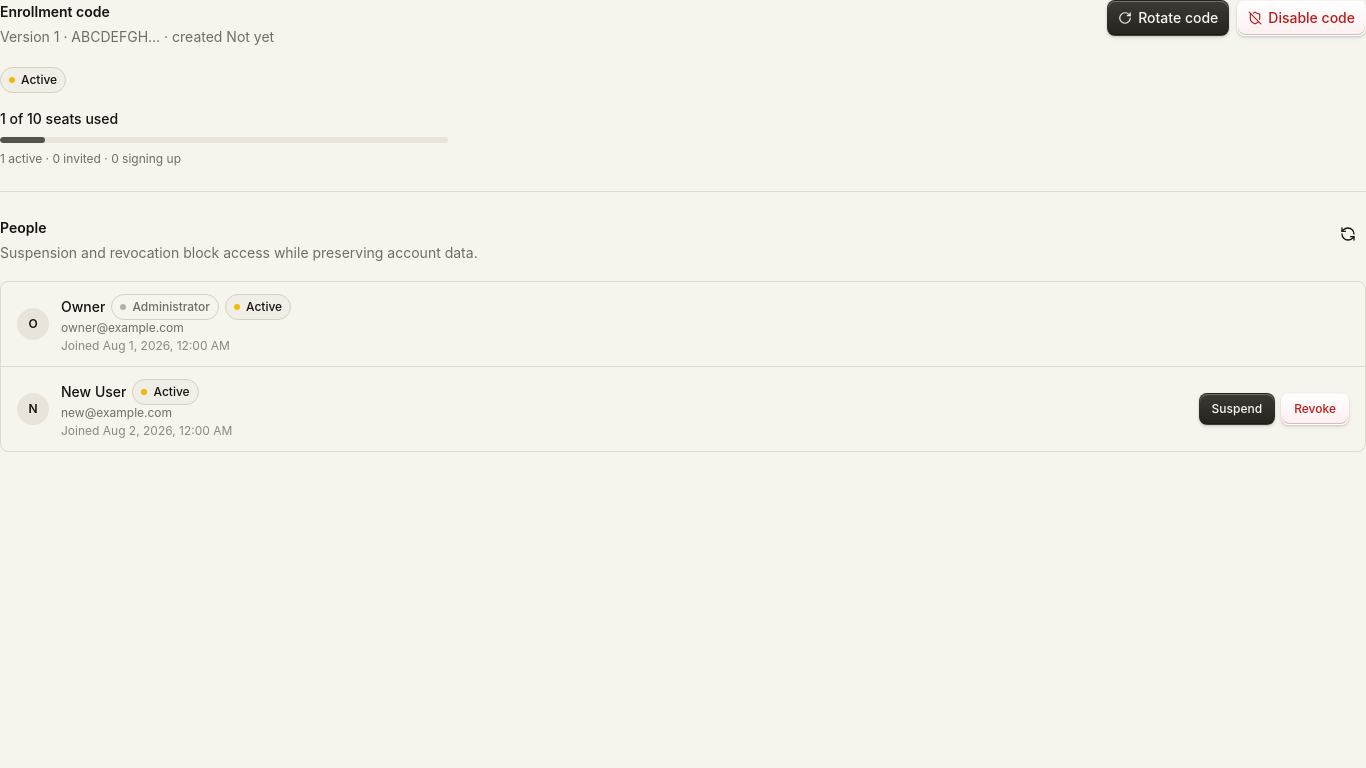
AdminPeopleAccessCard › reveals a validated replacement before surrounding refresh requests finish
Click the button "Rotate code": (1168, 18) [1107,0,1229,36]
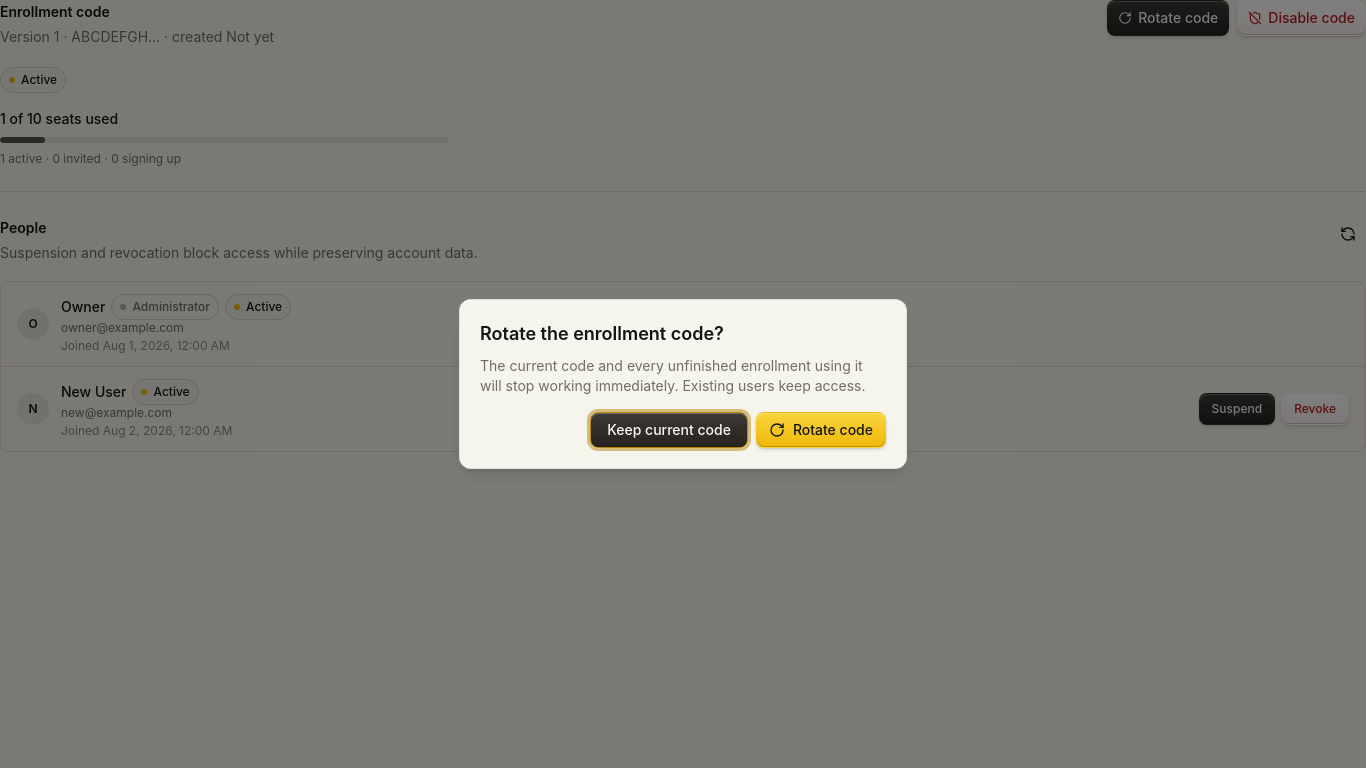
Click the button "Rotate code": (821, 430) [756,412,886,448]
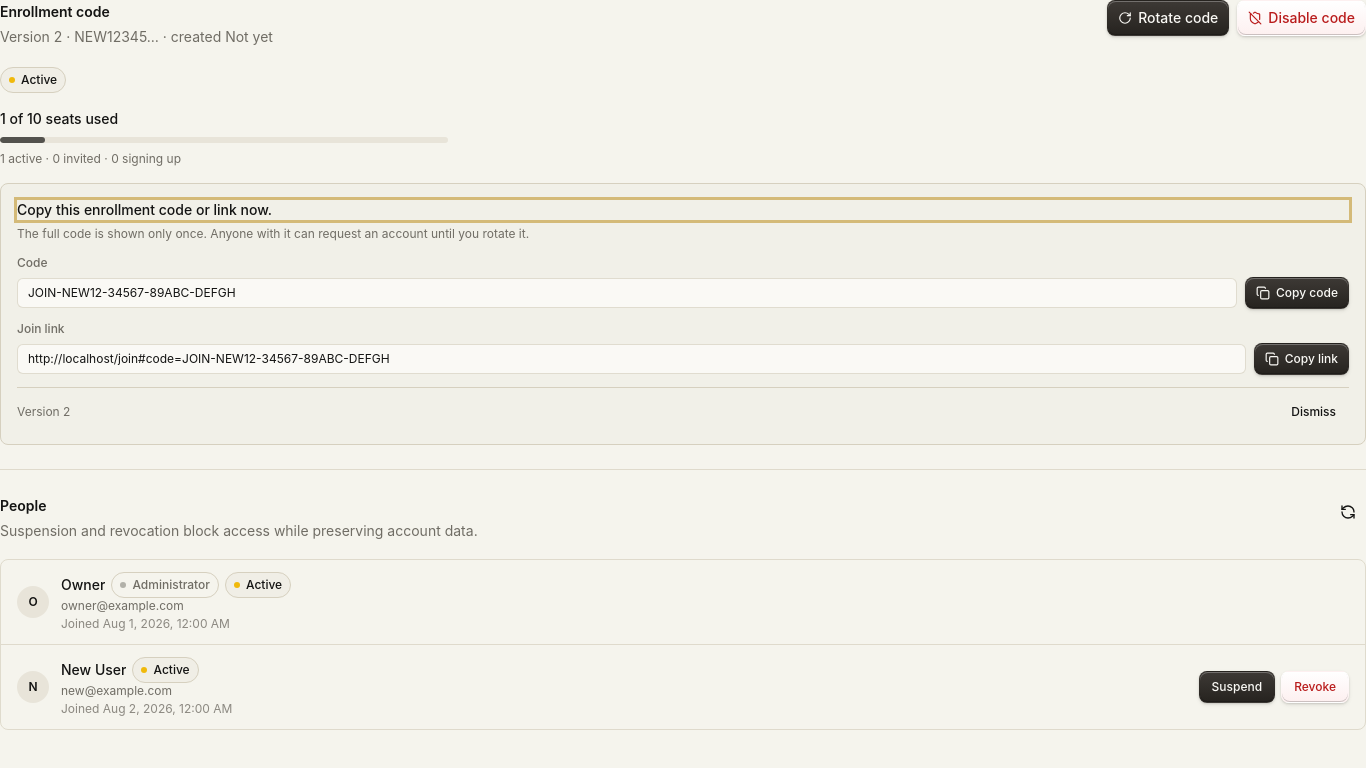
Expected: the heading "Rotate the enrollment code?" is gone
Expected: the text "JOIN-NEW12-34567-89ABC-DEFGH" is shown, [17,278,1237,308]
Expected: the button "Copy code" is shown, [1245,277,1349,309]
